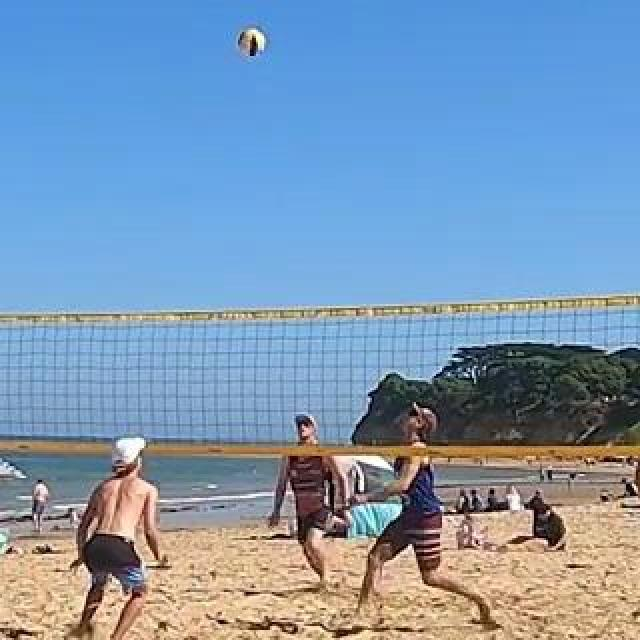volleyball: (238, 29, 266, 55)
